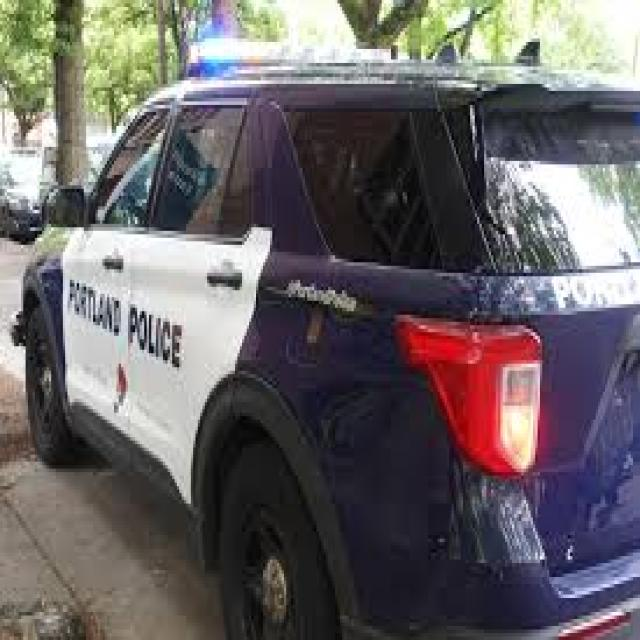cop: (18, 34, 640, 640)
